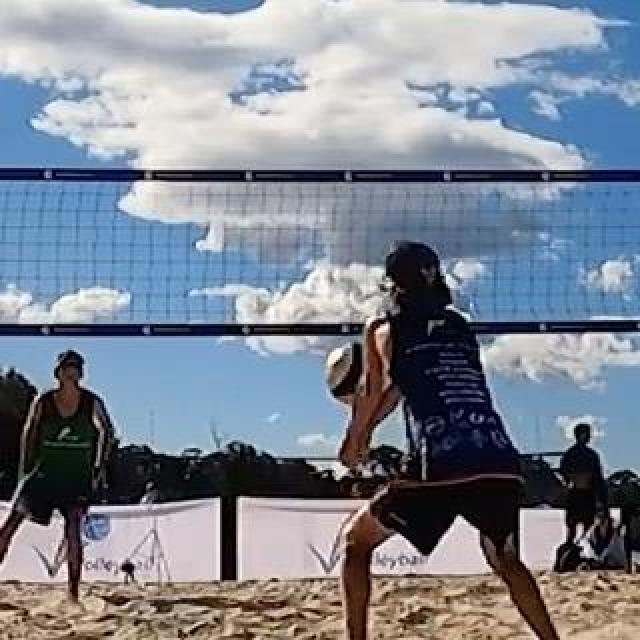volleyball: (326, 339, 390, 405)
